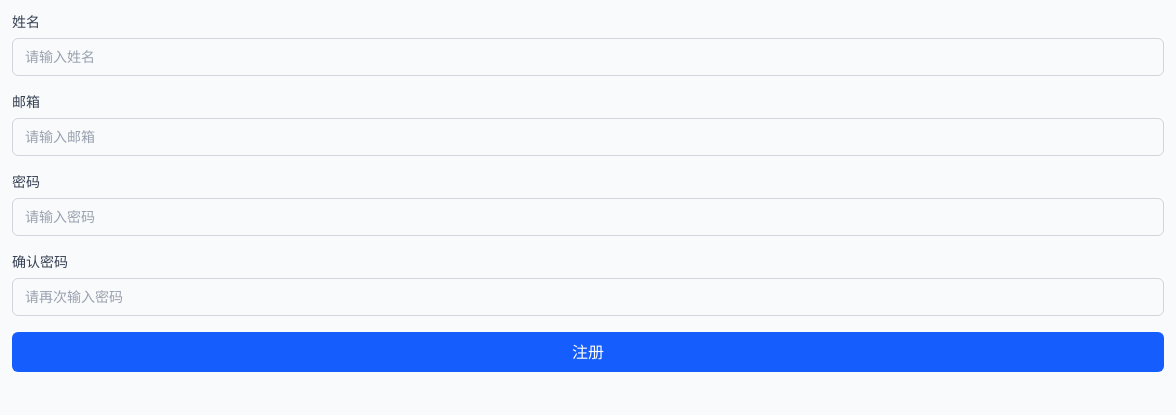
Scenario: RegisterForm › 两次密码不一致应显示验证提示
Type "测试用户" into the field labelled "姓名" at (588, 57), box [12,38,1164,76]
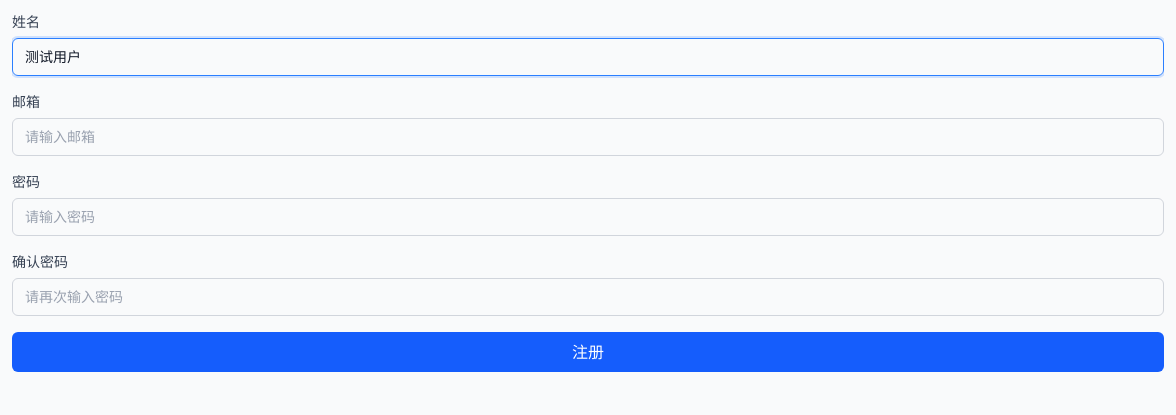
Type "test@example.com" into the field labelled "邮箱" at (588, 137), box [12,118,1164,156]
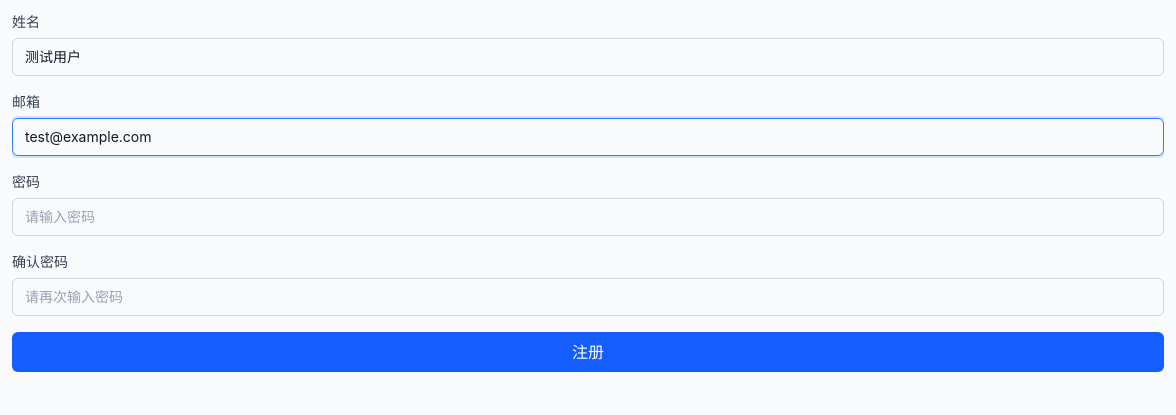
Type "Password1" into the password field labelled "密码" at (588, 217), box [12,198,1164,236]
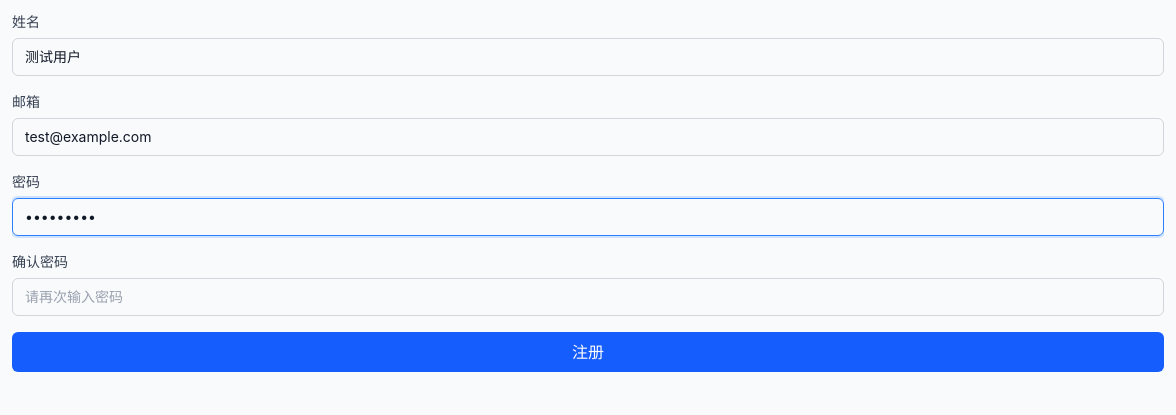
Type "Different1" into the password field labelled "确认密码" at (588, 297), box [12,278,1164,316]
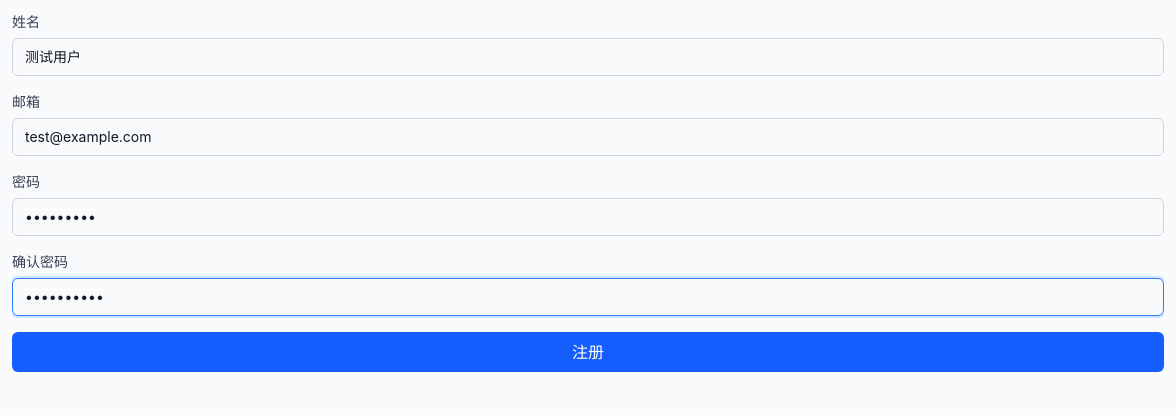
Click the button "注册" at (588, 352), box [12,332,1164,372]
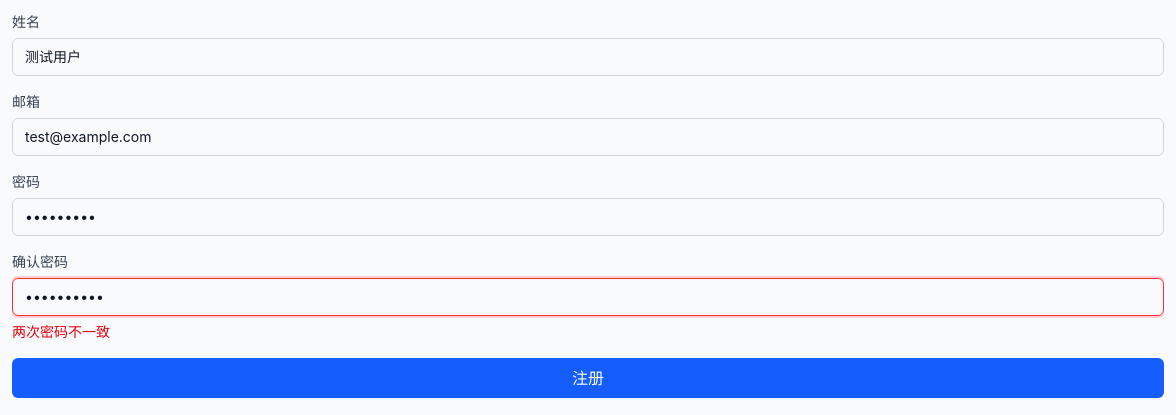
Result: the text "两次密码不一致" is shown at [12,323,110,340]
